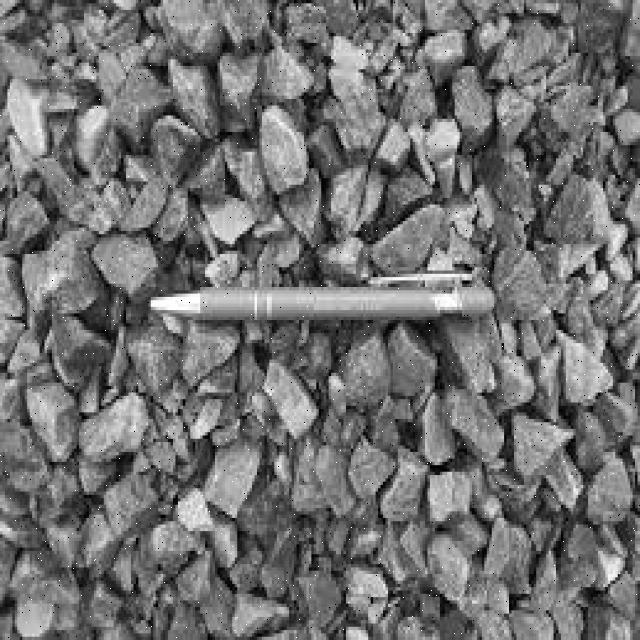Metamorphic: (3, 3, 635, 637)
